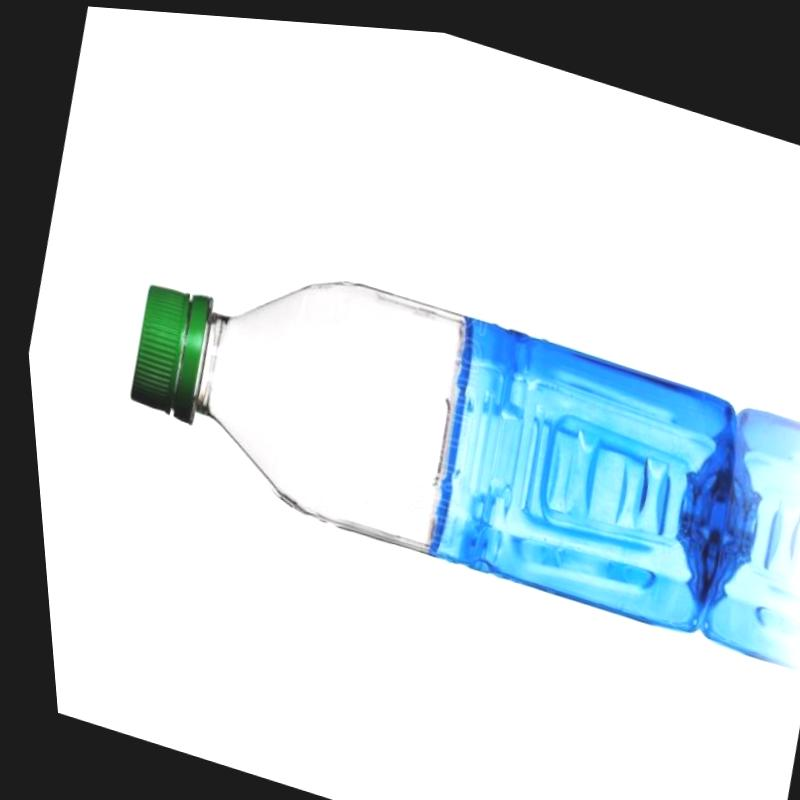botella: (94, 204, 768, 645)
